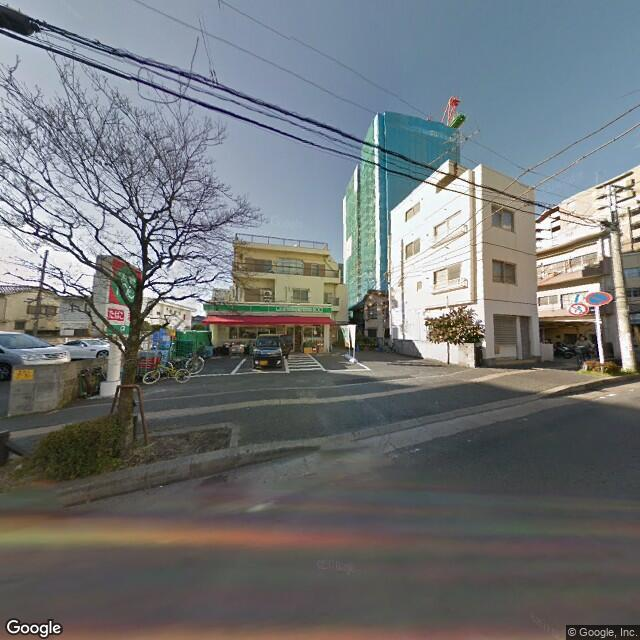lawson: (200, 301, 334, 319)
